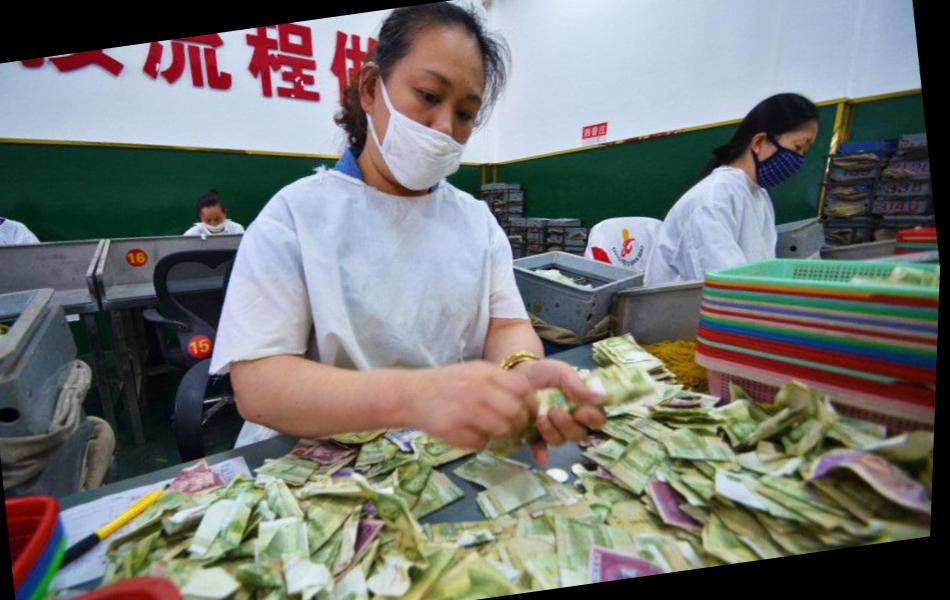OK: (747, 117, 826, 191)
WRONG: (365, 57, 500, 197), (204, 212, 229, 238)
